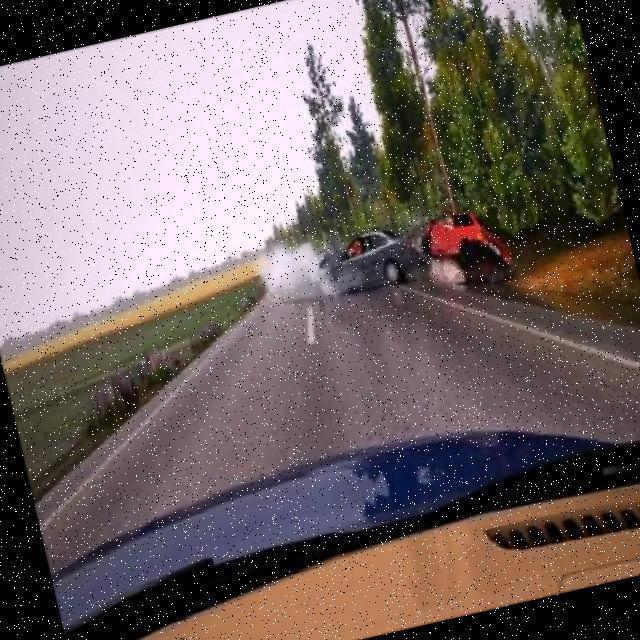accident: (282, 178, 526, 319)
